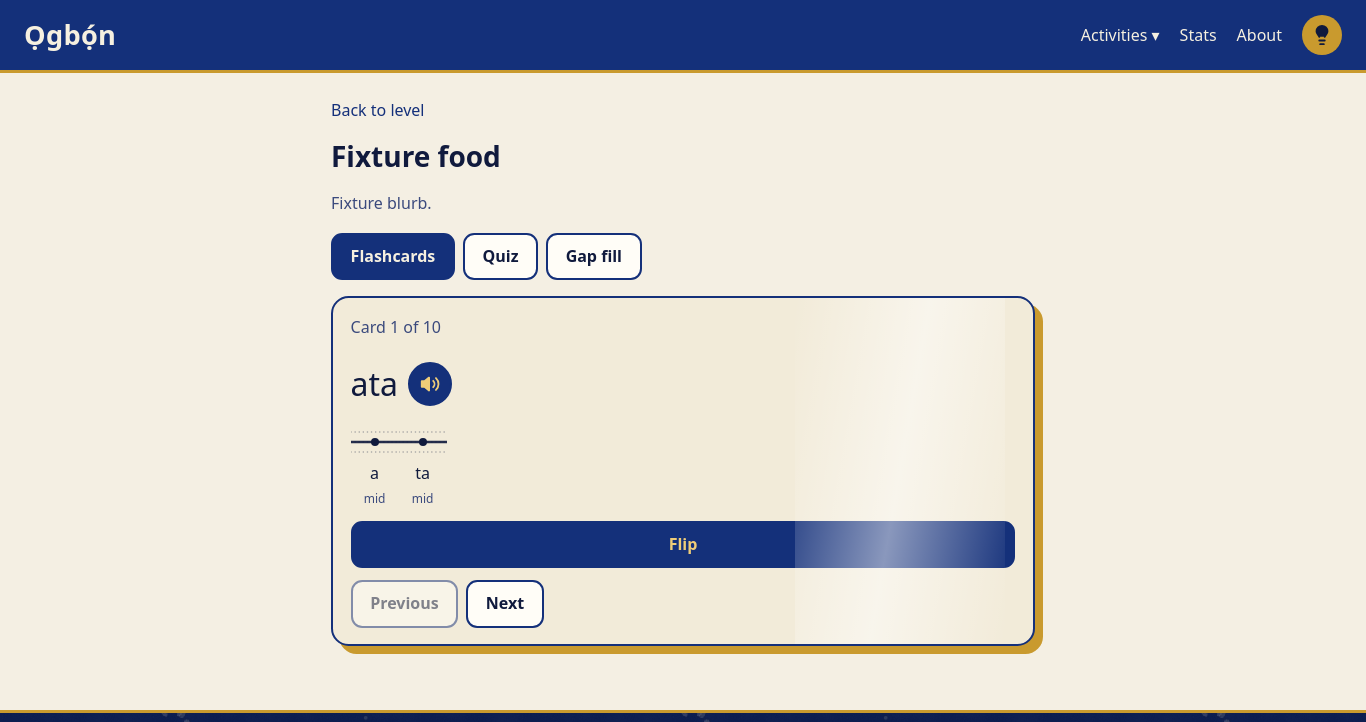
Test: vocab pages › the topic page defaults to flashcards and Quiz starts at question 1 of 10
The width and height of the screenshot is (1366, 722).
expect the text "Card 1 of 10" is shown: met, box [351,316,441,338]
Click the button "Quiz".
click(500, 257)  # box [463,233,538,280]
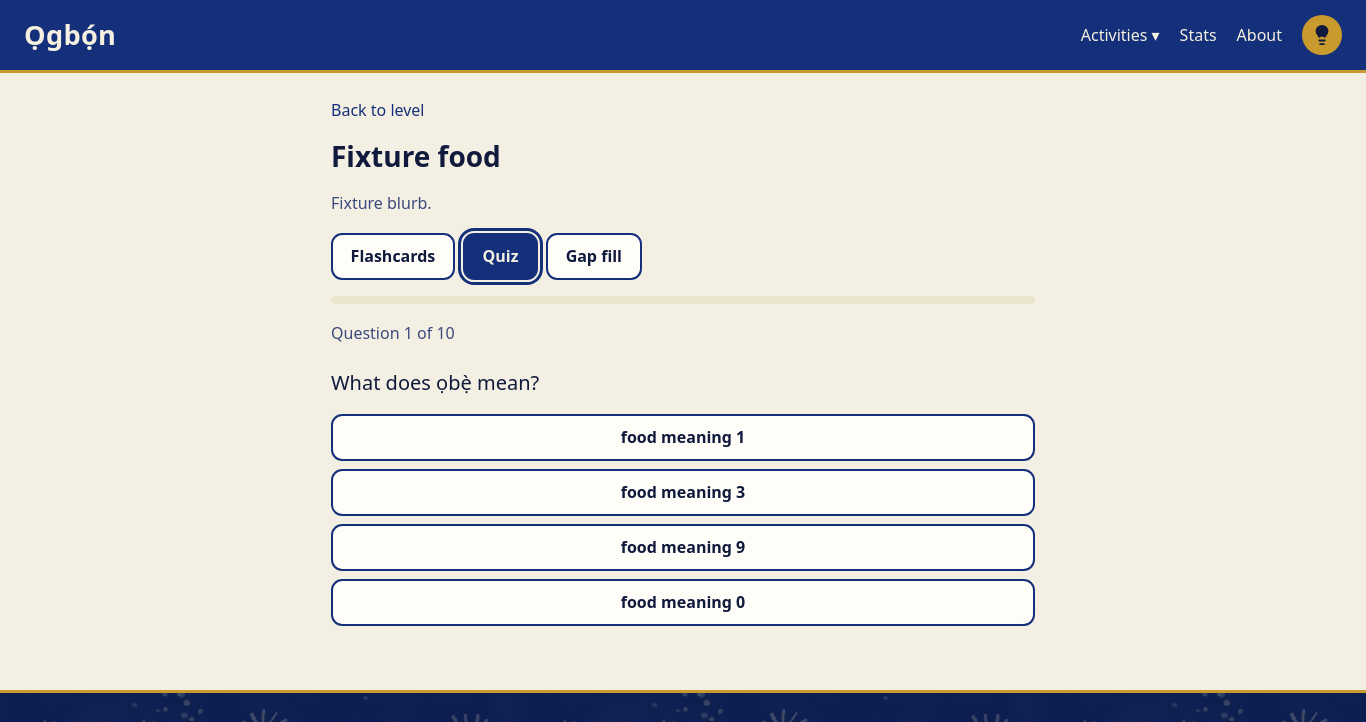
expect the text "Question 1 of 10" is shown: met, box [331,322,455,344]
